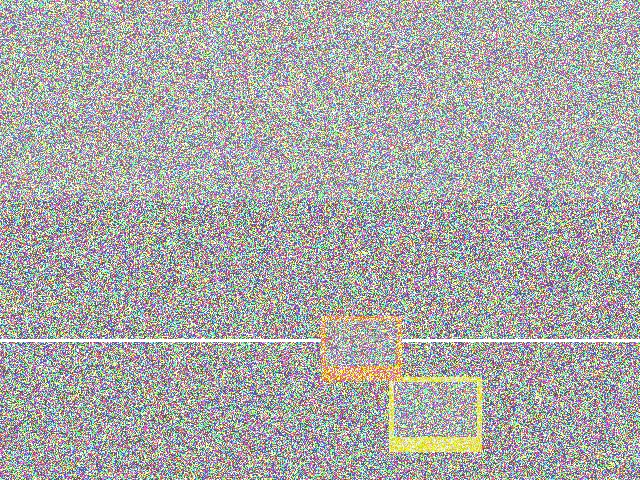bus: (444, 127, 528, 263)
truck: (186, 361, 354, 446)
